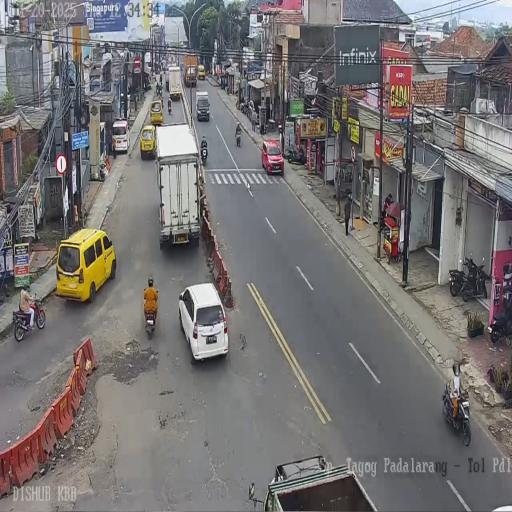3: (154, 123, 204, 251), (183, 54, 198, 87), (168, 67, 182, 100), (169, 54, 178, 68)
car: (56, 226, 116, 302), (178, 282, 230, 363), (261, 139, 283, 176), (112, 118, 130, 155), (140, 124, 157, 158), (196, 90, 210, 121), (150, 100, 164, 126), (198, 64, 206, 80), (165, 71, 170, 90), (162, 62, 168, 74)
truck: (442, 374, 470, 444), (13, 294, 47, 341), (460, 254, 488, 302), (489, 292, 512, 342), (144, 294, 157, 334), (285, 145, 306, 165), (240, 99, 250, 116), (200, 145, 208, 165), (236, 128, 241, 146), (167, 98, 172, 114), (159, 88, 163, 102), (154, 63, 158, 74), (160, 74, 162, 86)
